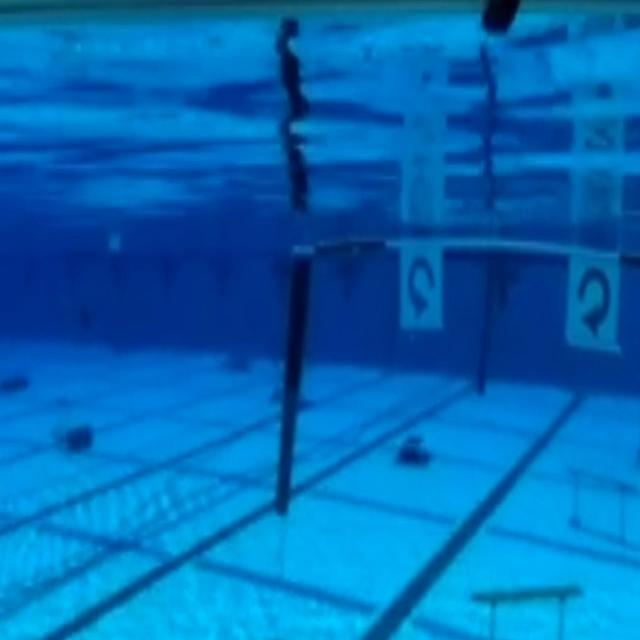Gate: (256, 213, 640, 537)
